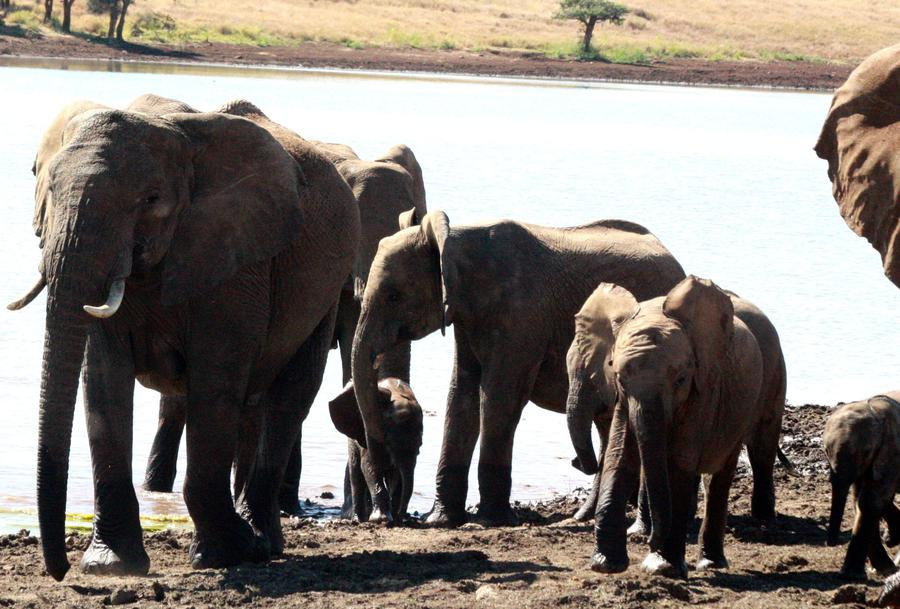elephant: (15, 92, 191, 354), (575, 299, 737, 452)
